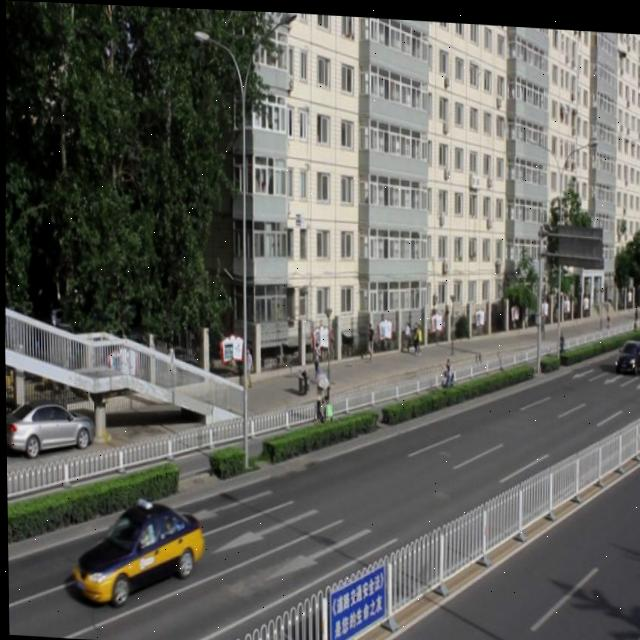car: (72, 487, 202, 608)
